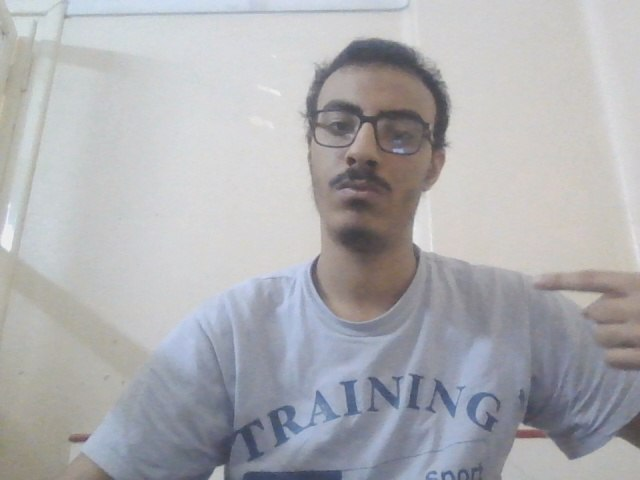Me: (520, 256, 640, 380)
